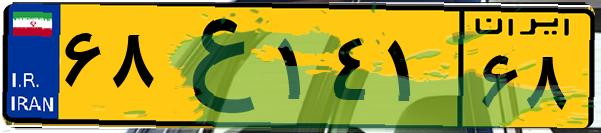1: (270, 28, 330, 110), (385, 28, 445, 110)
4: (330, 28, 385, 110)
6: (57, 26, 110, 100), (475, 38, 525, 113)
8: (525, 38, 570, 115), (110, 28, 158, 98)
ع: (158, 12, 270, 120)
